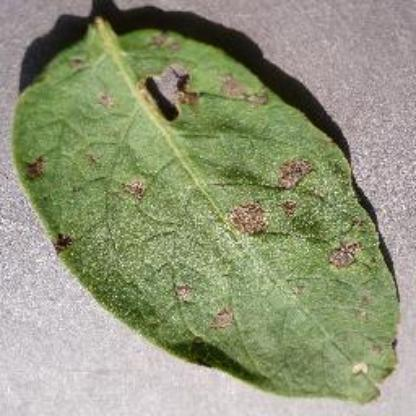Early-Blight: (13, 10, 405, 402)
